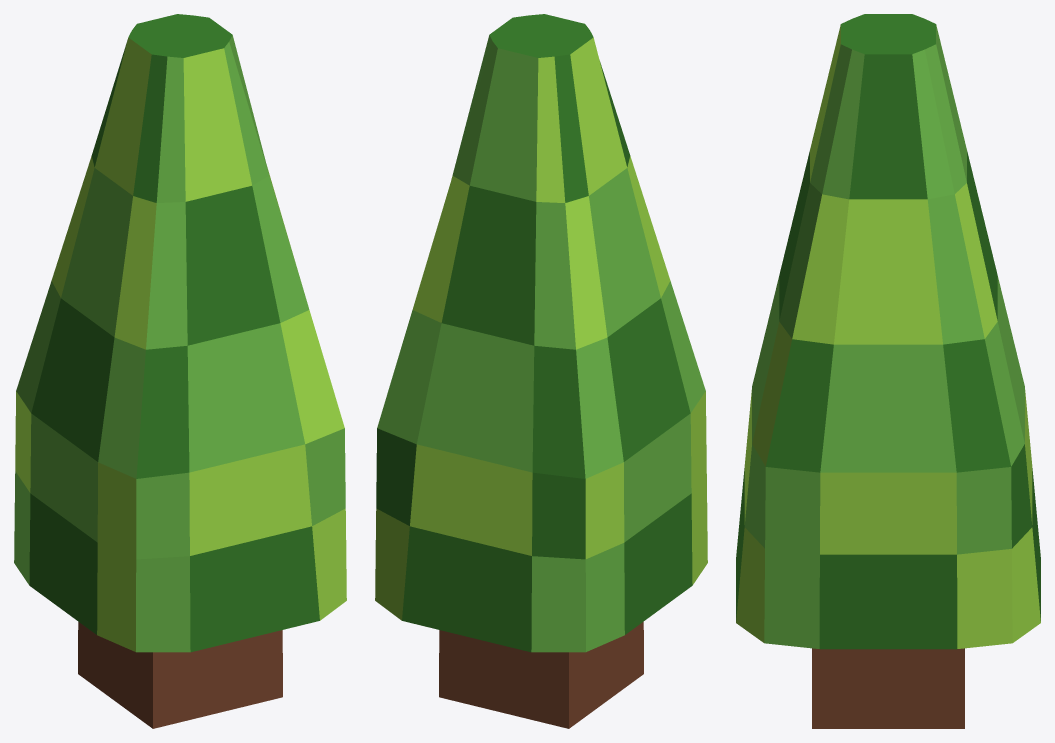
The model's file is medis1_rot.fbx.
The picture shows the model from 3 angles, left to right: view 1: azimuth 30°, elevation 25°; view 2: azimuth 150°, elevation 25°; view 3: azimuth 270°, elevation 25°; orthographic projection.
Visible parts, largest first — view 1: medis; view 2: medis; view 3: medis.
Part boxes in pixels (bbox=[...]): medis: bbox=[14, 14, 346, 728]; medis: bbox=[375, 14, 707, 728]; medis: bbox=[736, 14, 1040, 728].
Size of the model in its own units: 3.61 by 9.55 by 3.99.
